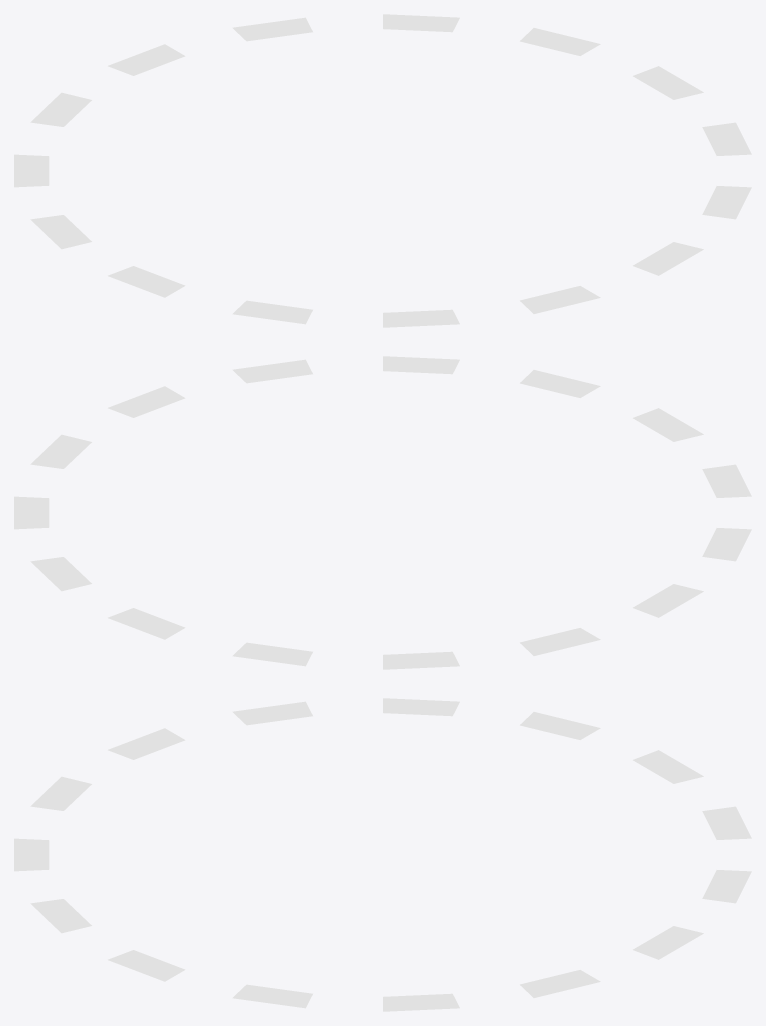
The model's file is landpoint_light.fbx.
3 renders of one model, top to bottom at view 1: azimuth 30°, elevation 25°; view 2: azimuth 150°, elevation 25°; view 3: azimuth 270°, elevation 25°, orthographic.
Parts seen in each view (by area): view 1: P_landpoint_light; view 2: P_landpoint_light; view 3: P_landpoint_light.
Boxes of the visible parts, <box> form: P_landpoint_light: <box>14,14,751,327</box>; P_landpoint_light: <box>14,356,751,669</box>; P_landpoint_light: <box>14,698,751,1011</box>.
Size of the model in its own units: 6 by 0 by 5.97.
Materials: 1 (1 with a texture image).
